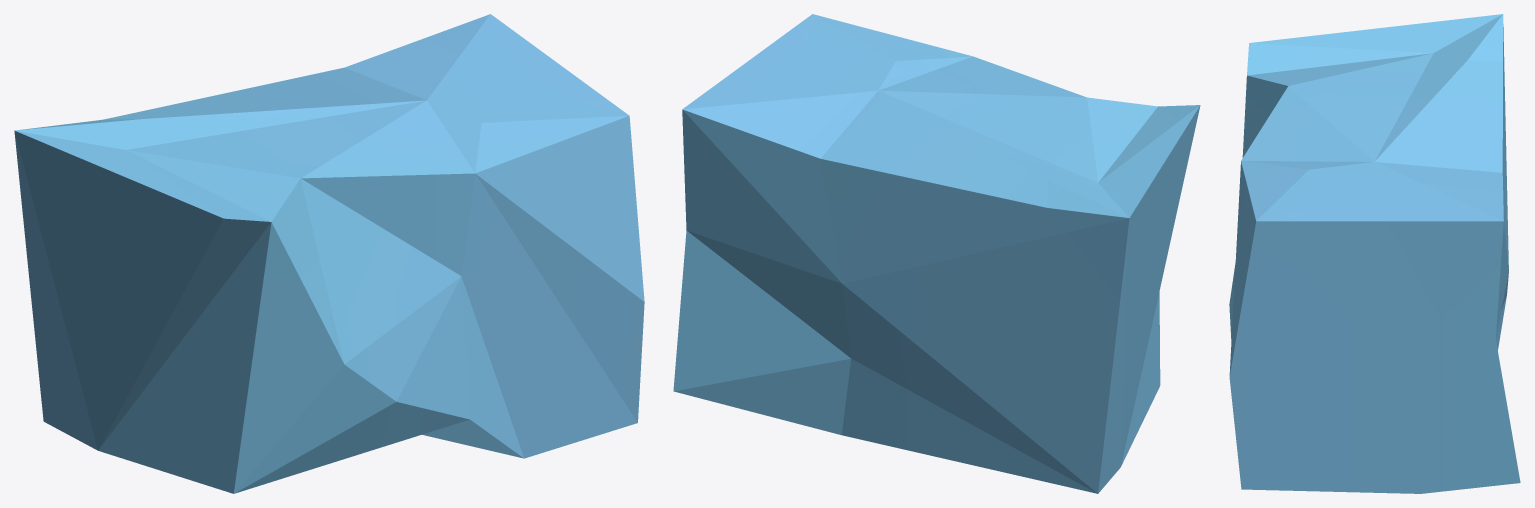
The model's file is sp_rock04.glb.
3 views of the same model, side by side, from view 1: azimuth 30°, elevation 25°; view 2: azimuth 150°, elevation 25°; view 3: azimuth 270°, elevation 25° (orthographic). The views are drawn at different scales.
Parts seen in each view (by area): view 1: SP_Rock04; view 2: SP_Rock04; view 3: SP_Rock04.
Boxes of the visible parts, left/top/right/bottom form: SP_Rock04: left=14, top=14, right=644, bottom=493; SP_Rock04: left=673, top=14, right=1200, bottom=493; SP_Rock04: left=1229, top=14, right=1520, bottom=493.
Size of the model in its own units: 135 by 85.63 by 80.09.
Materials: 1 (1 with a texture image).
